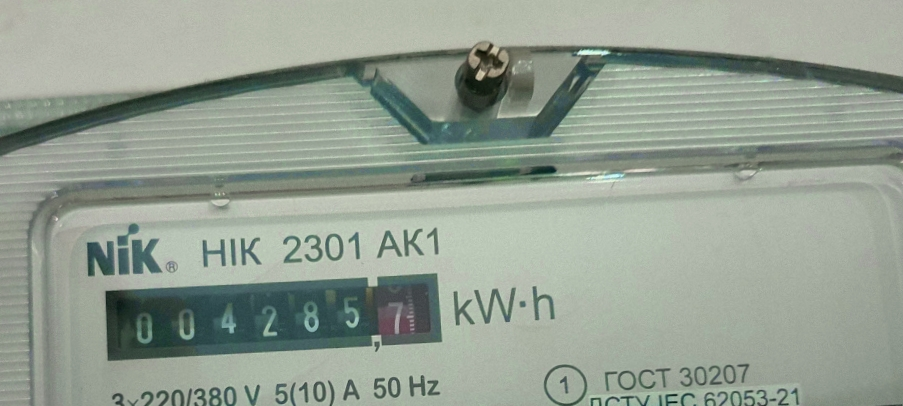0: (174, 304, 197, 341), (132, 308, 154, 344)
2: (258, 301, 278, 338)
4: (218, 299, 236, 334)
5: (339, 292, 361, 329)
7: (384, 298, 405, 335)
8: (298, 297, 321, 334)
screen: (88, 261, 457, 373)
